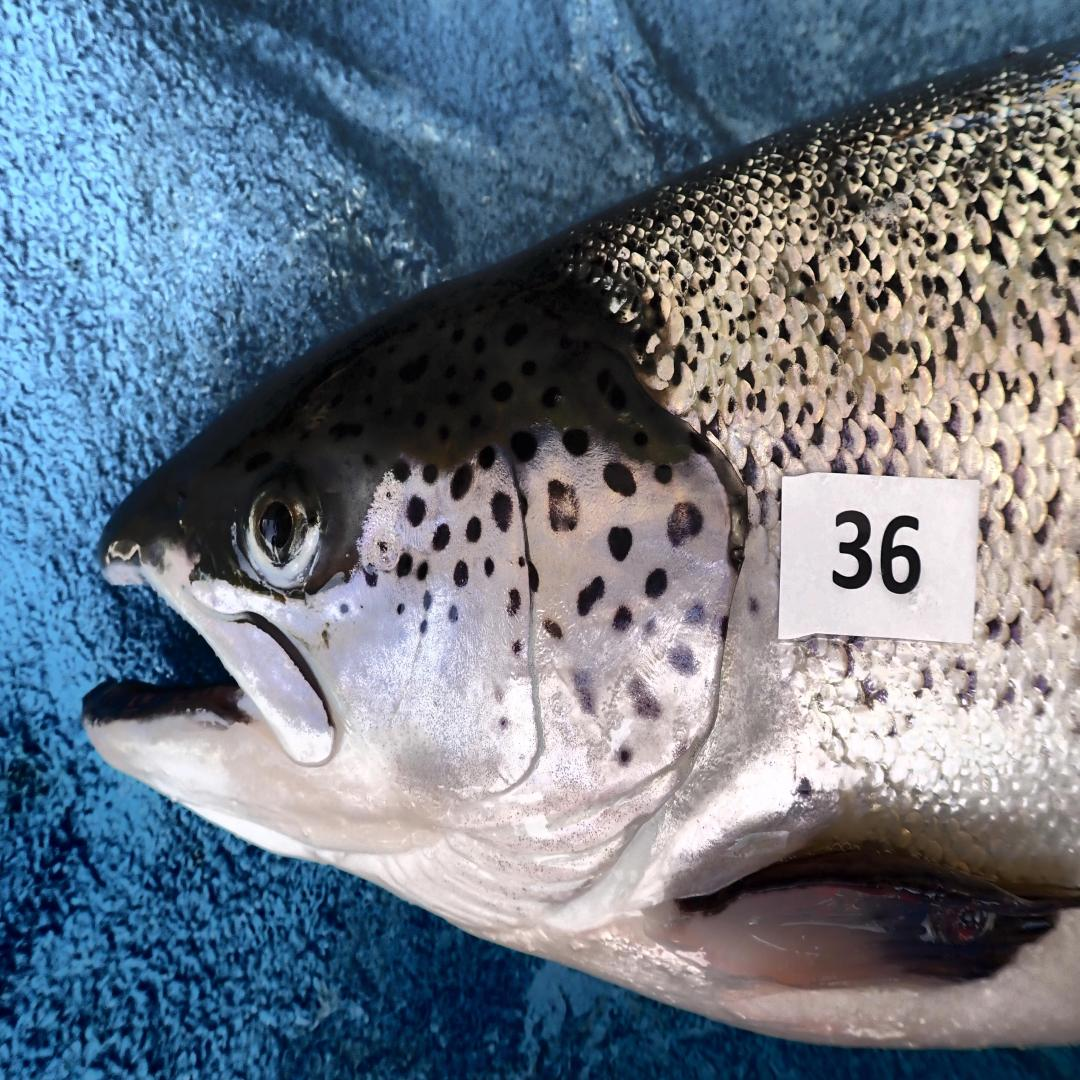spot: (548, 478, 578, 532), (667, 501, 702, 546), (629, 675, 662, 720), (603, 461, 637, 498), (572, 669, 597, 714), (578, 577, 605, 616), (669, 644, 698, 675), (491, 492, 513, 532), (510, 430, 538, 461), (639, 613, 662, 650), (449, 464, 472, 501), (608, 526, 633, 560), (645, 568, 669, 599), (563, 428, 589, 456), (407, 495, 426, 526), (612, 605, 633, 633), (392, 458, 411, 484), (432, 523, 449, 551), (479, 444, 496, 470), (684, 602, 704, 624), (506, 588, 521, 616), (542, 619, 563, 638), (454, 560, 468, 588), (654, 464, 673, 484), (527, 562, 540, 591), (466, 518, 481, 543), (397, 554, 413, 577), (363, 565, 378, 588), (616, 745, 633, 765), (422, 464, 439, 484), (517, 488, 528, 518), (720, 615, 728, 645), (447, 605, 460, 622), (422, 591, 432, 613), (420, 610, 428, 636), (498, 714, 510, 731), (418, 560, 428, 579), (485, 557, 494, 577), (511, 640, 522, 655), (340, 602, 350, 616), (378, 541, 388, 555), (397, 602, 405, 616), (518, 557, 525, 567)
